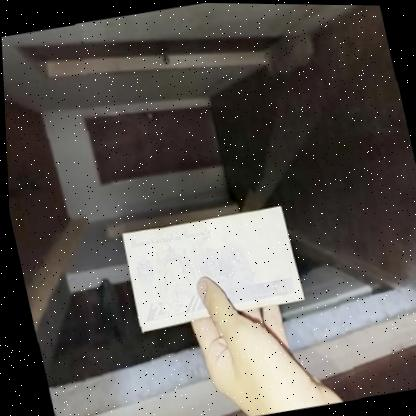ten-back-vef: (114, 201, 304, 333)
